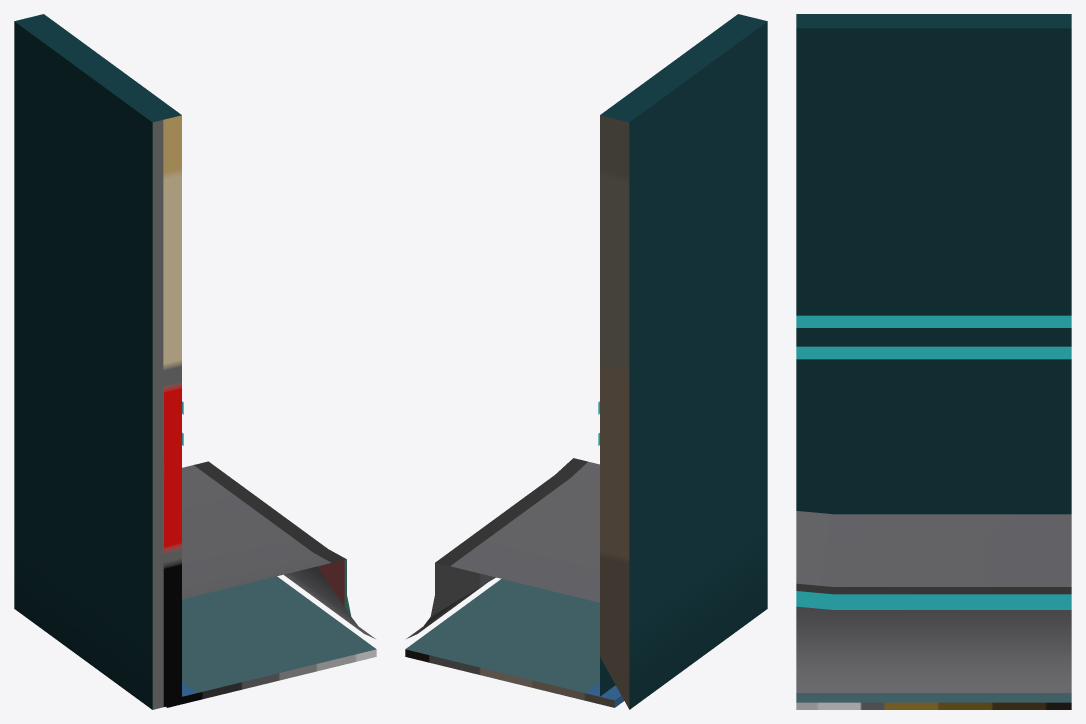
The model's file is tile_0_0_2.gltf.
3 views of the same model, side by side, from view 1: azimuth 30°, elevation 25°; view 2: azimuth 150°, elevation 25°; view 3: azimuth 270°, elevation 25° (orthographic).
Parts seen in each view (by area): view 1: wall.west.002, ground, pipe.west.001; view 2: wall.west.002, ground, pipe.west.001; view 3: wall.west.002, pipe.west.001, neons.002, ground.
Part boxes in pixels (x1,y1,x2,y2): wall.west.002: (14, 14, 181, 709); ground: (166, 576, 376, 707); pipe.west.001: (182, 461, 375, 638); wall.west.002: (600, 14, 767, 709); ground: (405, 579, 624, 707); pipe.west.001: (406, 458, 599, 638); wall.west.002: (796, 14, 1071, 514); pipe.west.001: (796, 511, 1071, 692); neons.002: (796, 315, 1071, 359); ground: (796, 693, 1071, 709).
Size of what is drawn, in the model's own units: 7.49 by 18.8 by 8.
Materials: 2 (2 with a texture image).
